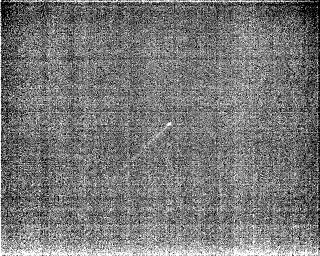AIRPLANE: (111, 121, 175, 166)
